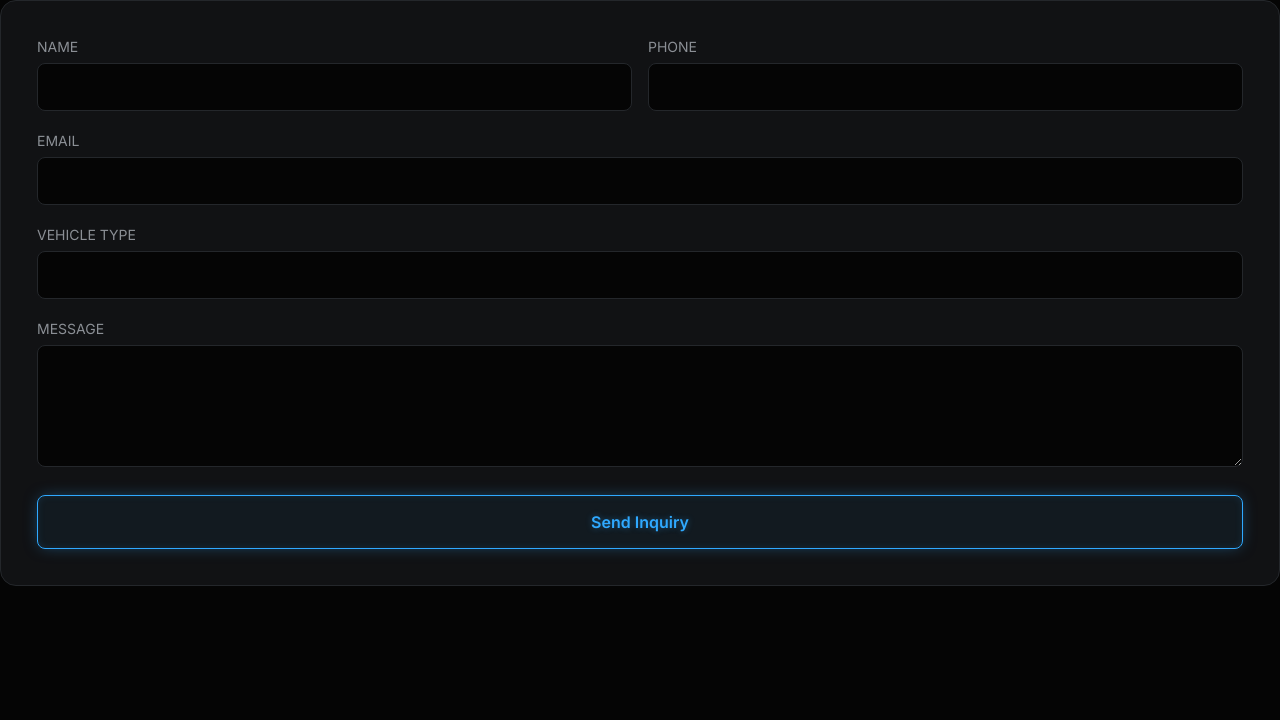
Test: ContactForm › shows an error message and keeps the entered values when the submission fails
Type "Jordan Smith" into the field labelled "NAME". click: (334, 87)
box: x1=37 y1=63 x2=632 y2=111
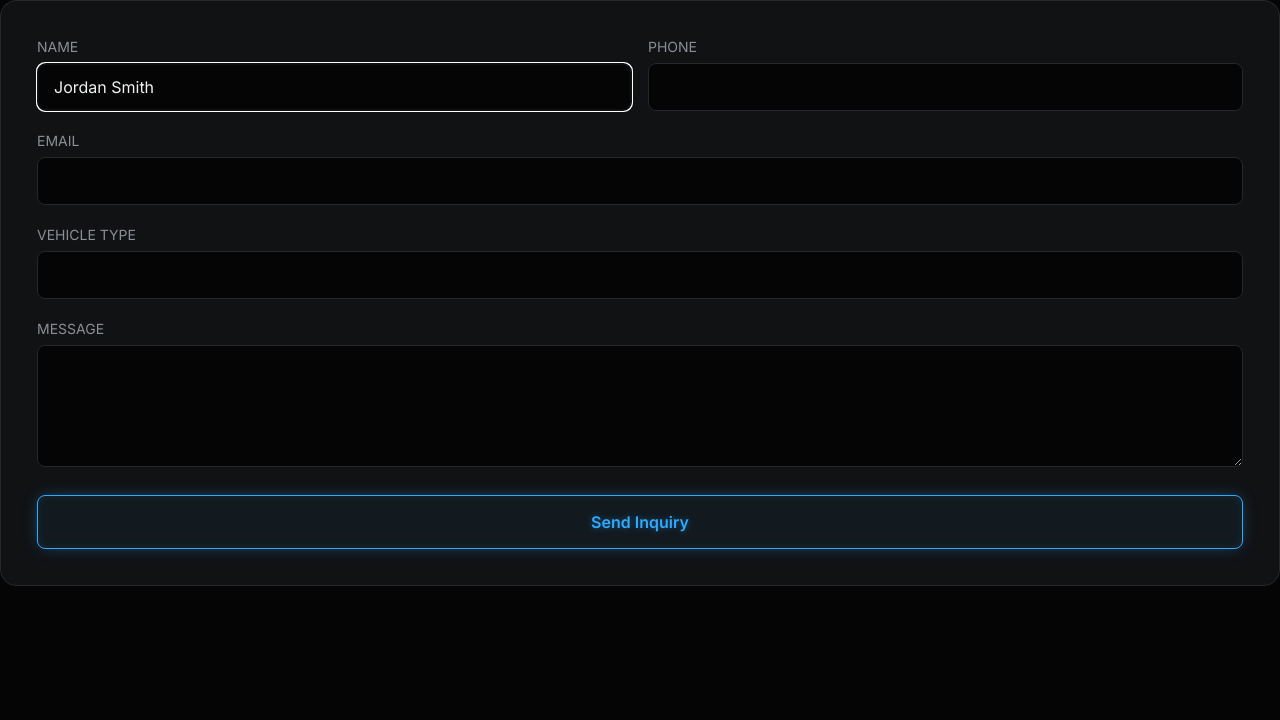
Type "5551234567" into the field labelled "PHONE". click: (946, 87)
box: x1=648 y1=63 x2=1243 y2=111
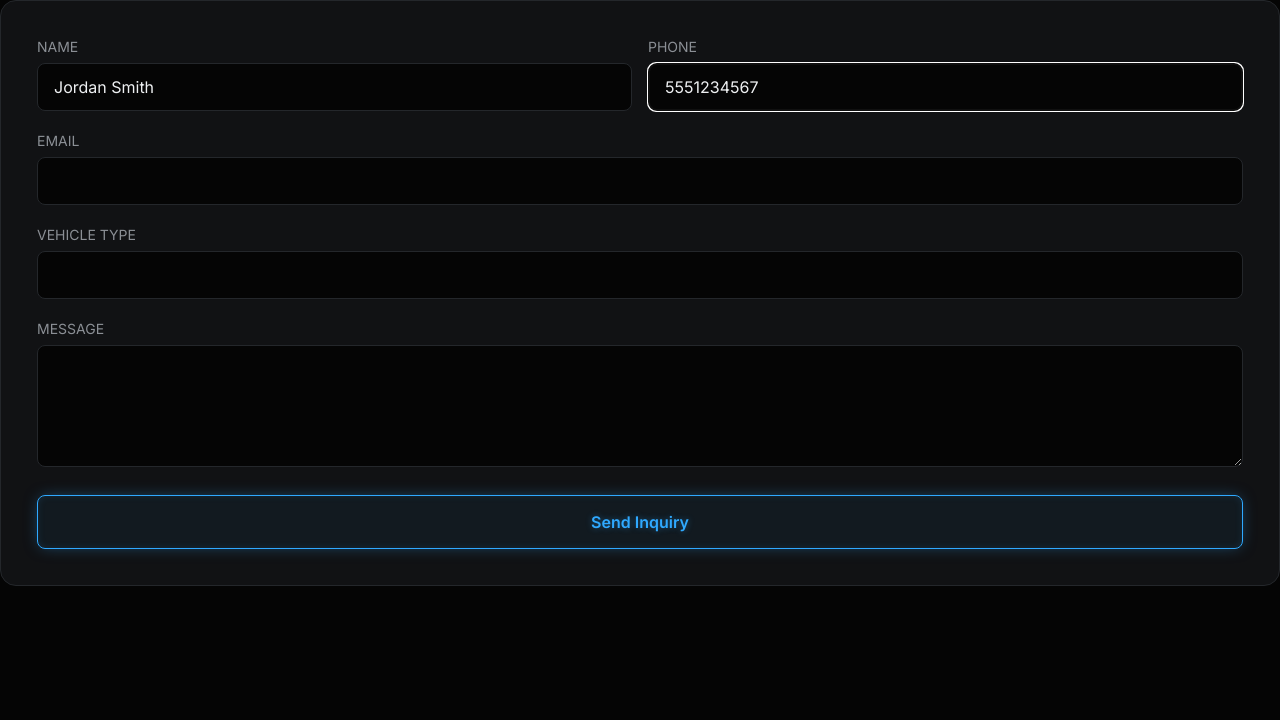
Type "jordan@example.com" into the field labelled "EMAIL". click: (640, 181)
box: x1=37 y1=157 x2=1243 y2=205
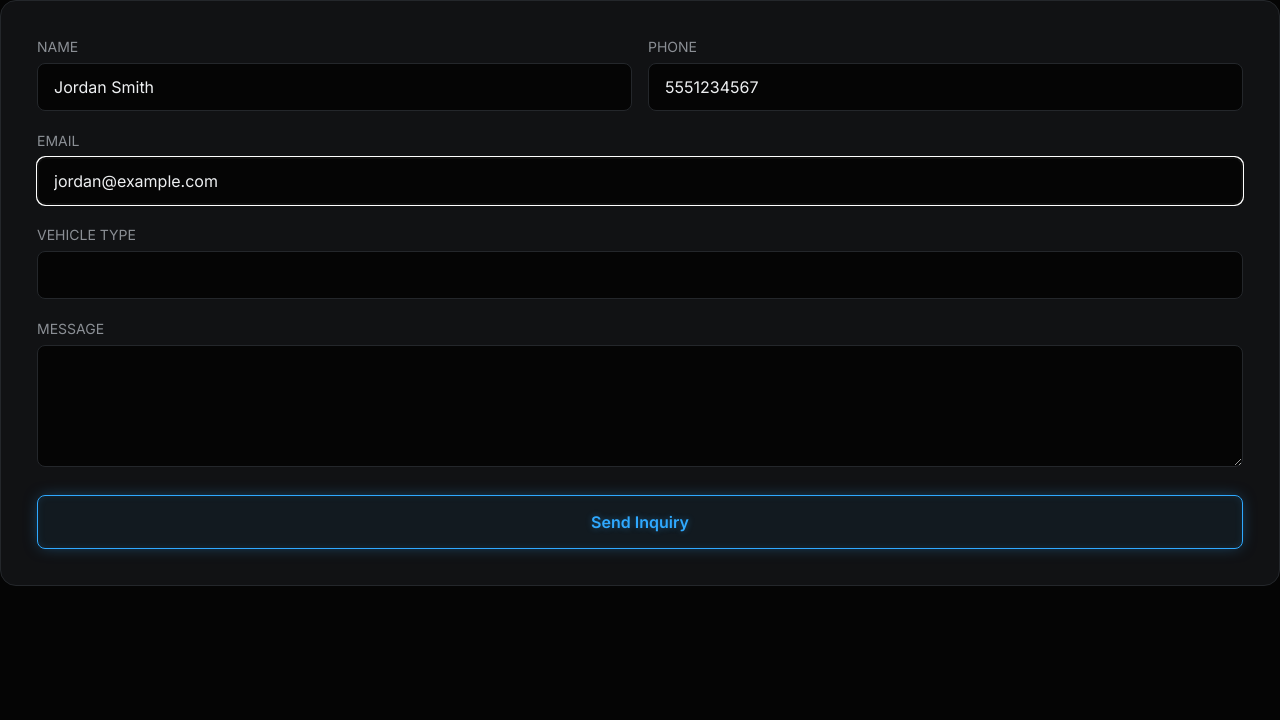
Click the button "Send Inquiry". click: (640, 522)
box: x1=37 y1=495 x2=1243 y2=549
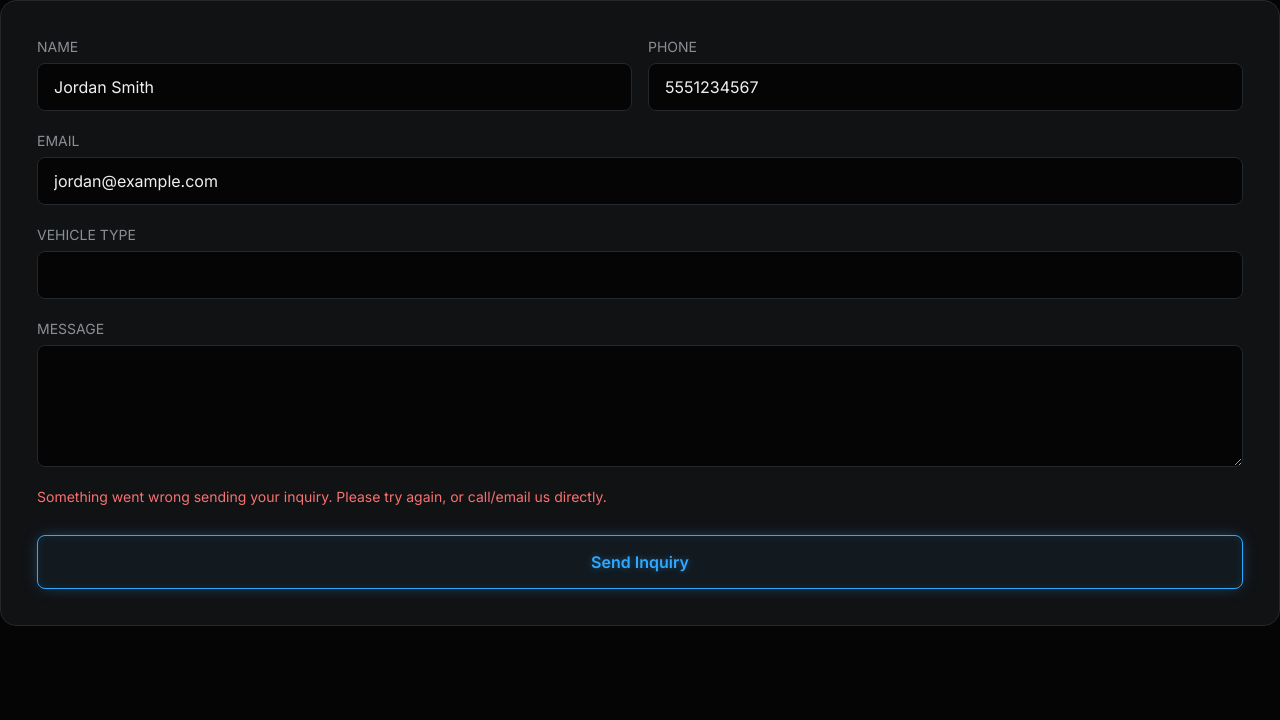
Expected: the message shows "Something went wrong", x1=37 y1=488 x2=607 y2=505
